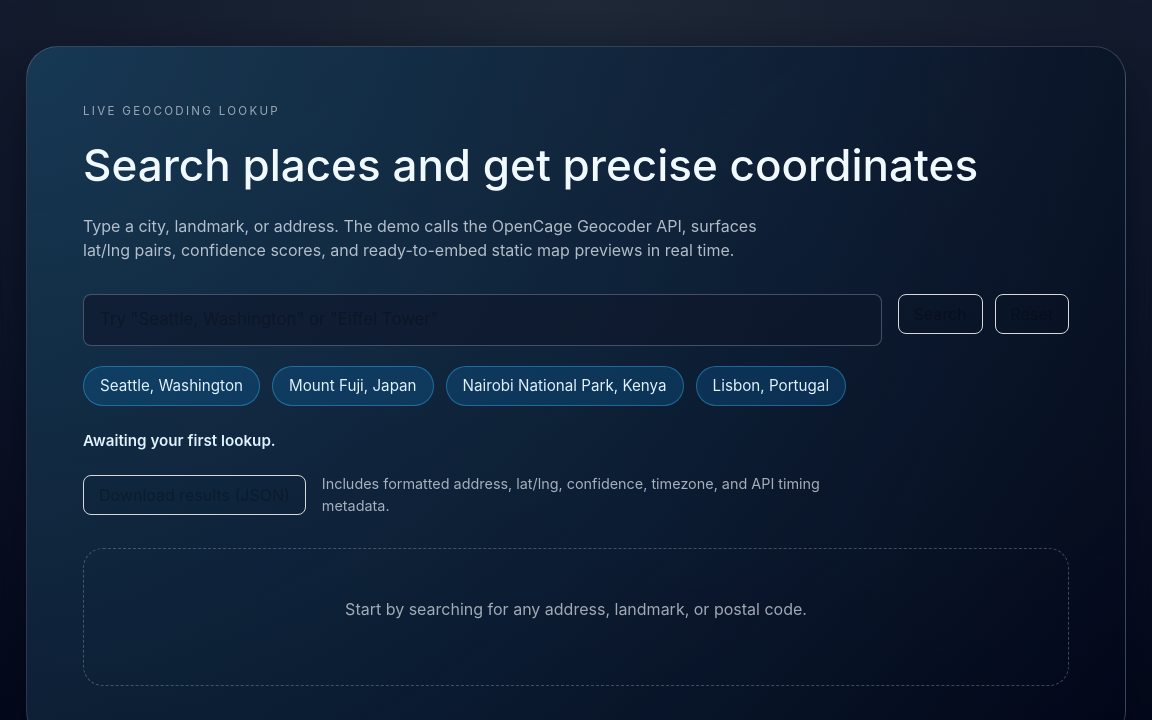
Test: GeocodeSearchDemo › validates short queries when the form submits manually (negative)
Step 1. Type "NY" into the field named "search for a location" → (482,320), box [83,294,882,346]
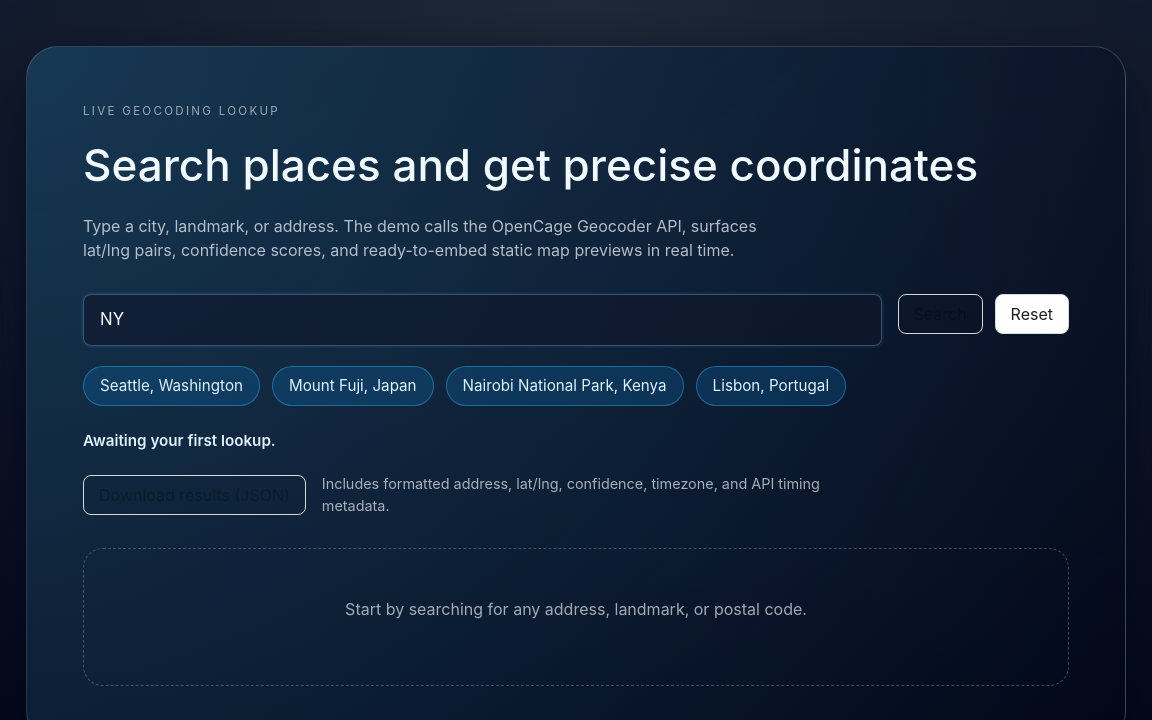
Step 2. Submit the form named "geocode search form", box [83,294,1069,346]
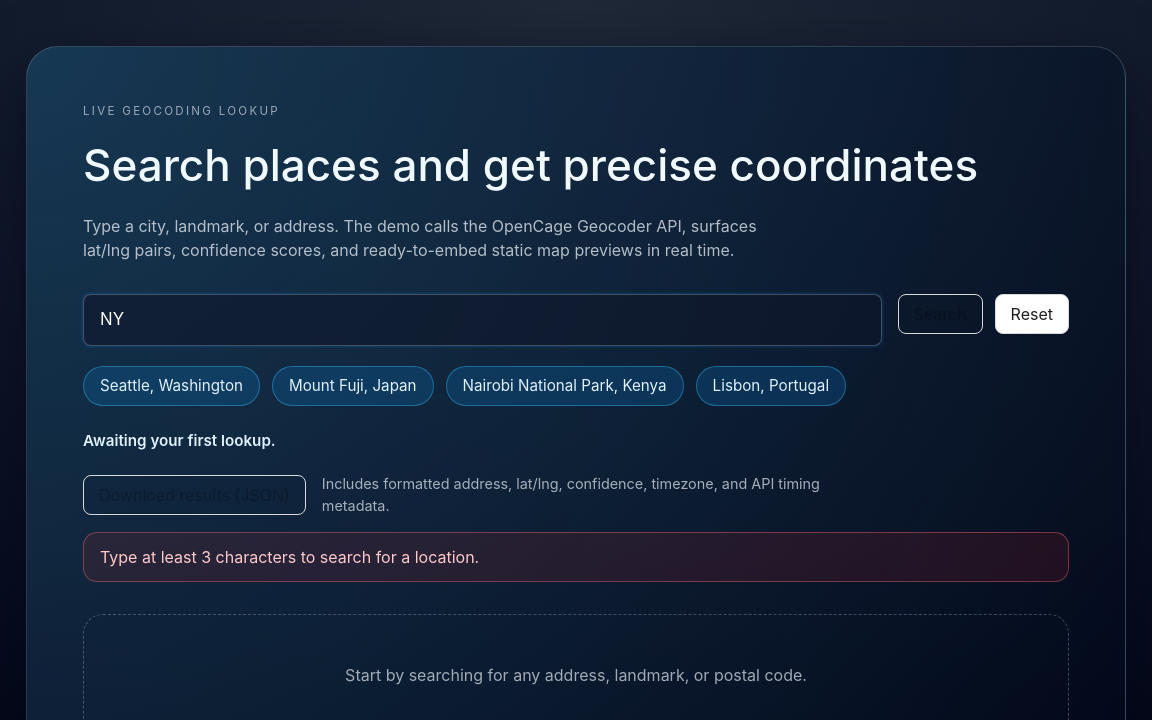
Check: the text "Awaiting your first lookup." is shown, box [83,430,276,453]
Check: the text "Type at least 3 characters to search for a location." is shown, box [83,532,1069,582]
